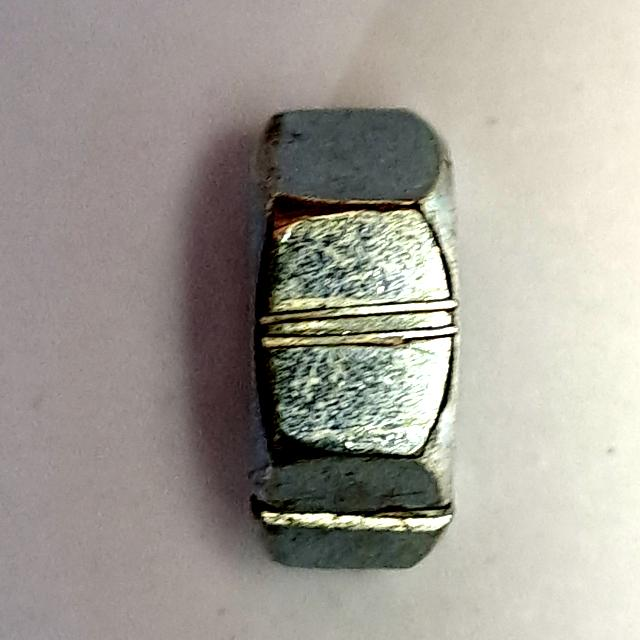Side_Scratches: (232, 92, 477, 589)
